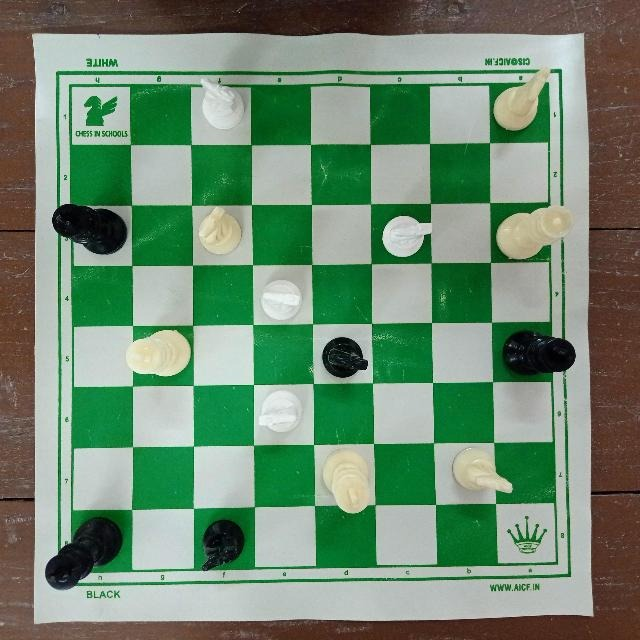black-king: (39, 512, 122, 595), (45, 199, 131, 260), (501, 321, 580, 381)
black-knight: (196, 513, 252, 576), (317, 331, 373, 383)
white-king: (119, 328, 193, 387), (319, 447, 375, 517)
white-knight: (488, 65, 556, 137), (451, 446, 513, 501), (196, 71, 245, 136), (254, 386, 308, 440), (190, 203, 243, 254), (256, 277, 309, 327), (380, 210, 436, 257)
white-queen: (496, 199, 574, 263)
